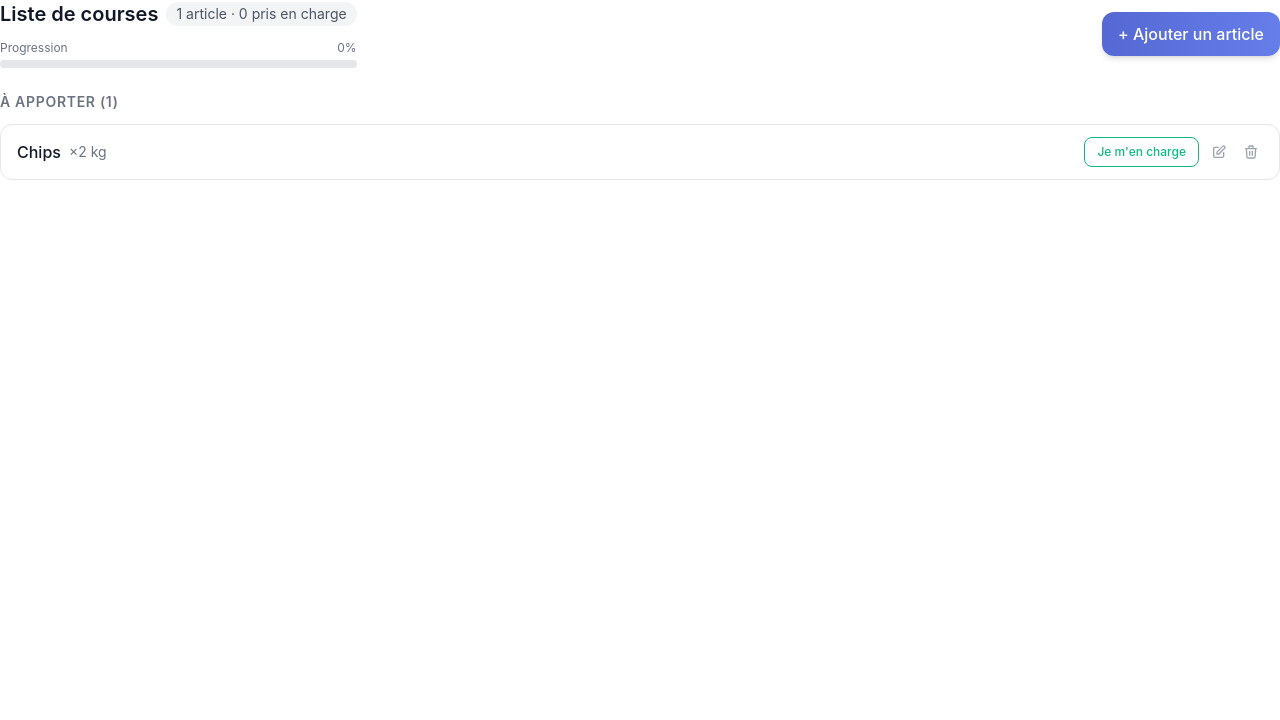
Test: EventItemListTab › opens the edit-item modal for an editable item and submits changes
expect the text "Chips" is shown: met, box [17,140,61,164]
Step 1. Click the button named "Modifier l'article" → click(1219, 152), box [1207,140,1231,164]
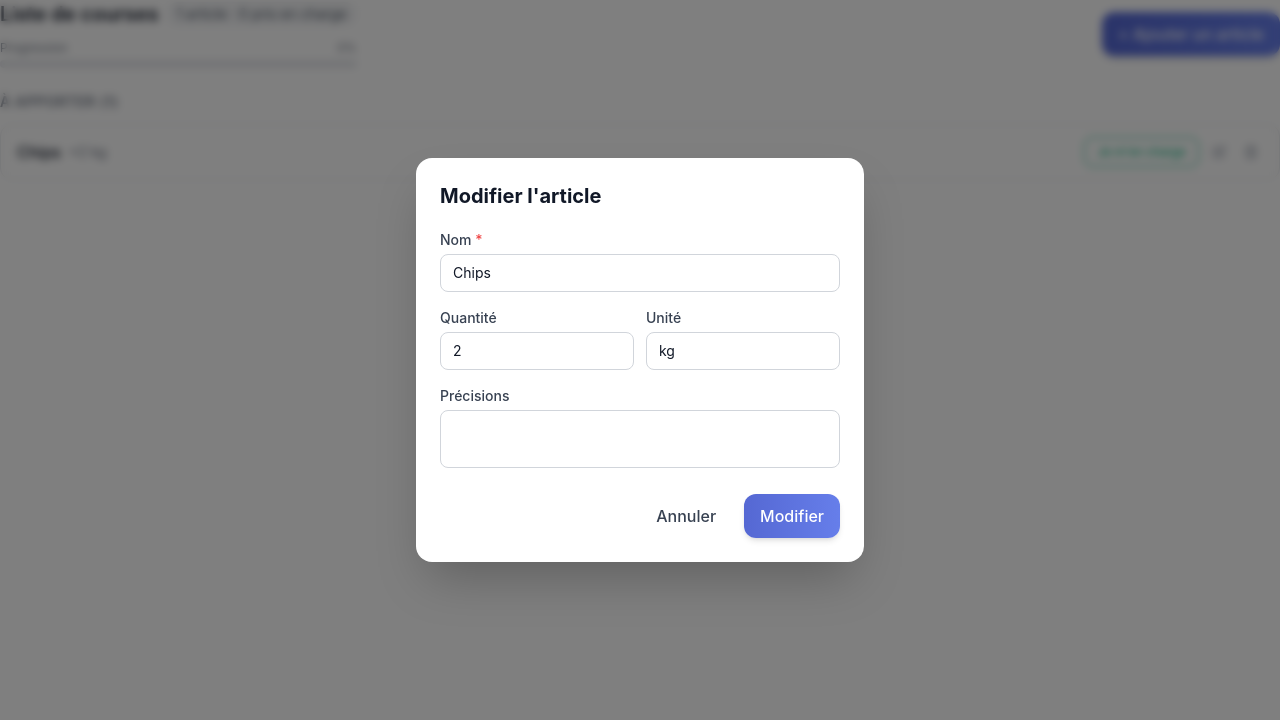
Step 2. Replace the text in the field labelled "Nom *" with "Nachos" → (640, 273), box [440,254,840,292]
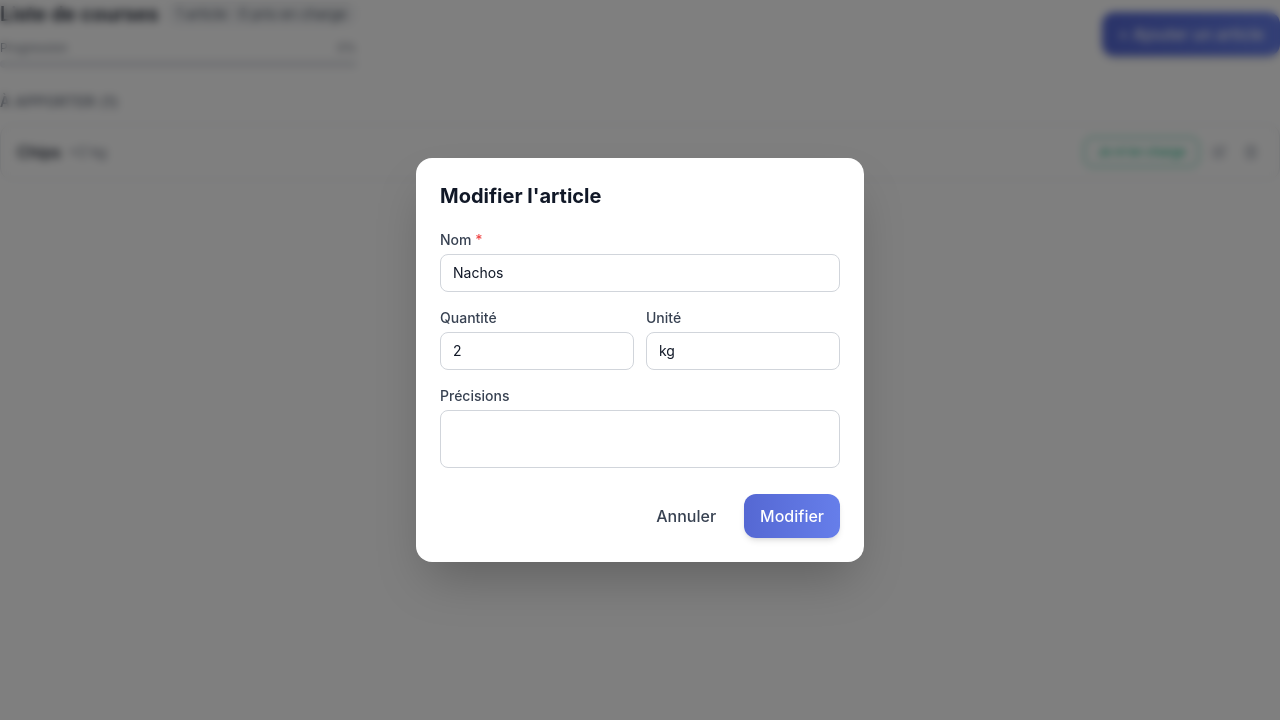
Step 3. Click the button "Modifier" → click(792, 516), box [744,494,840,538]
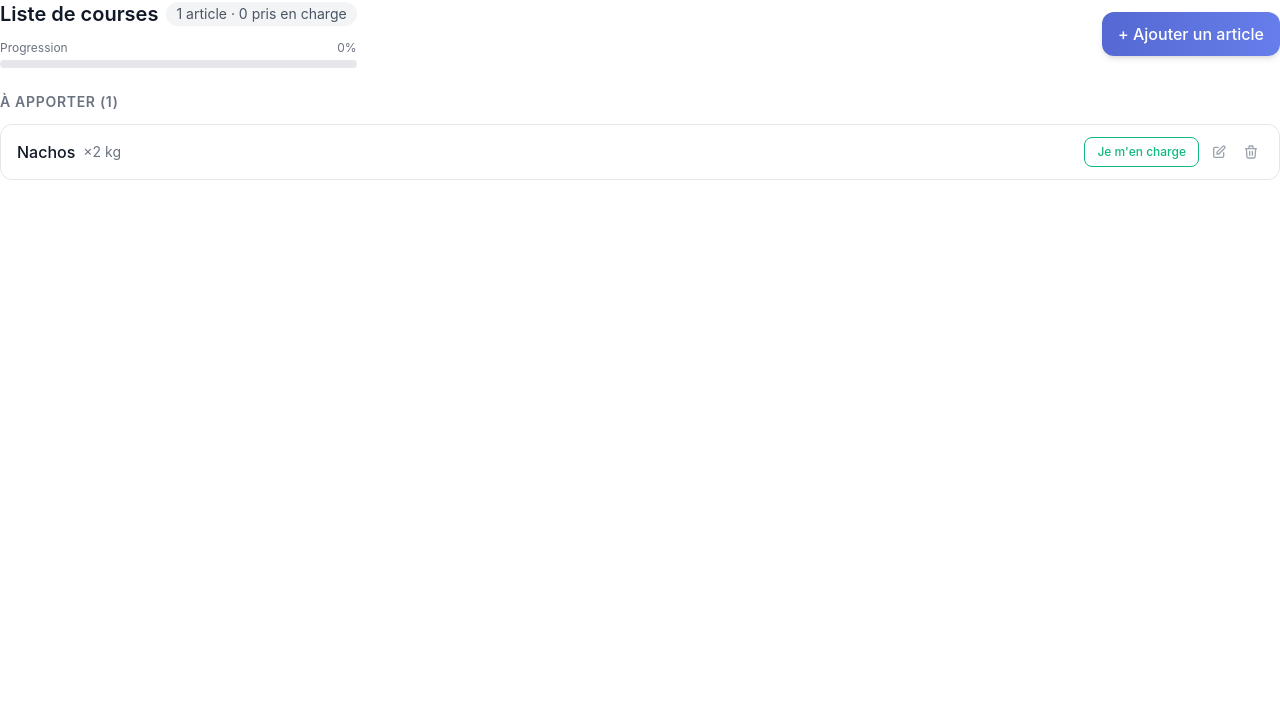
expect the text "Nachos" is shown: met, box [17,140,75,164]
